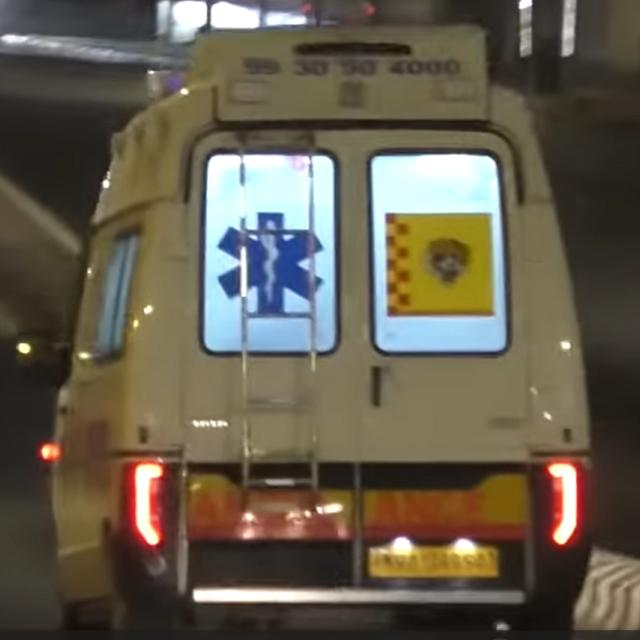ambulance: (41, 18, 596, 634)
